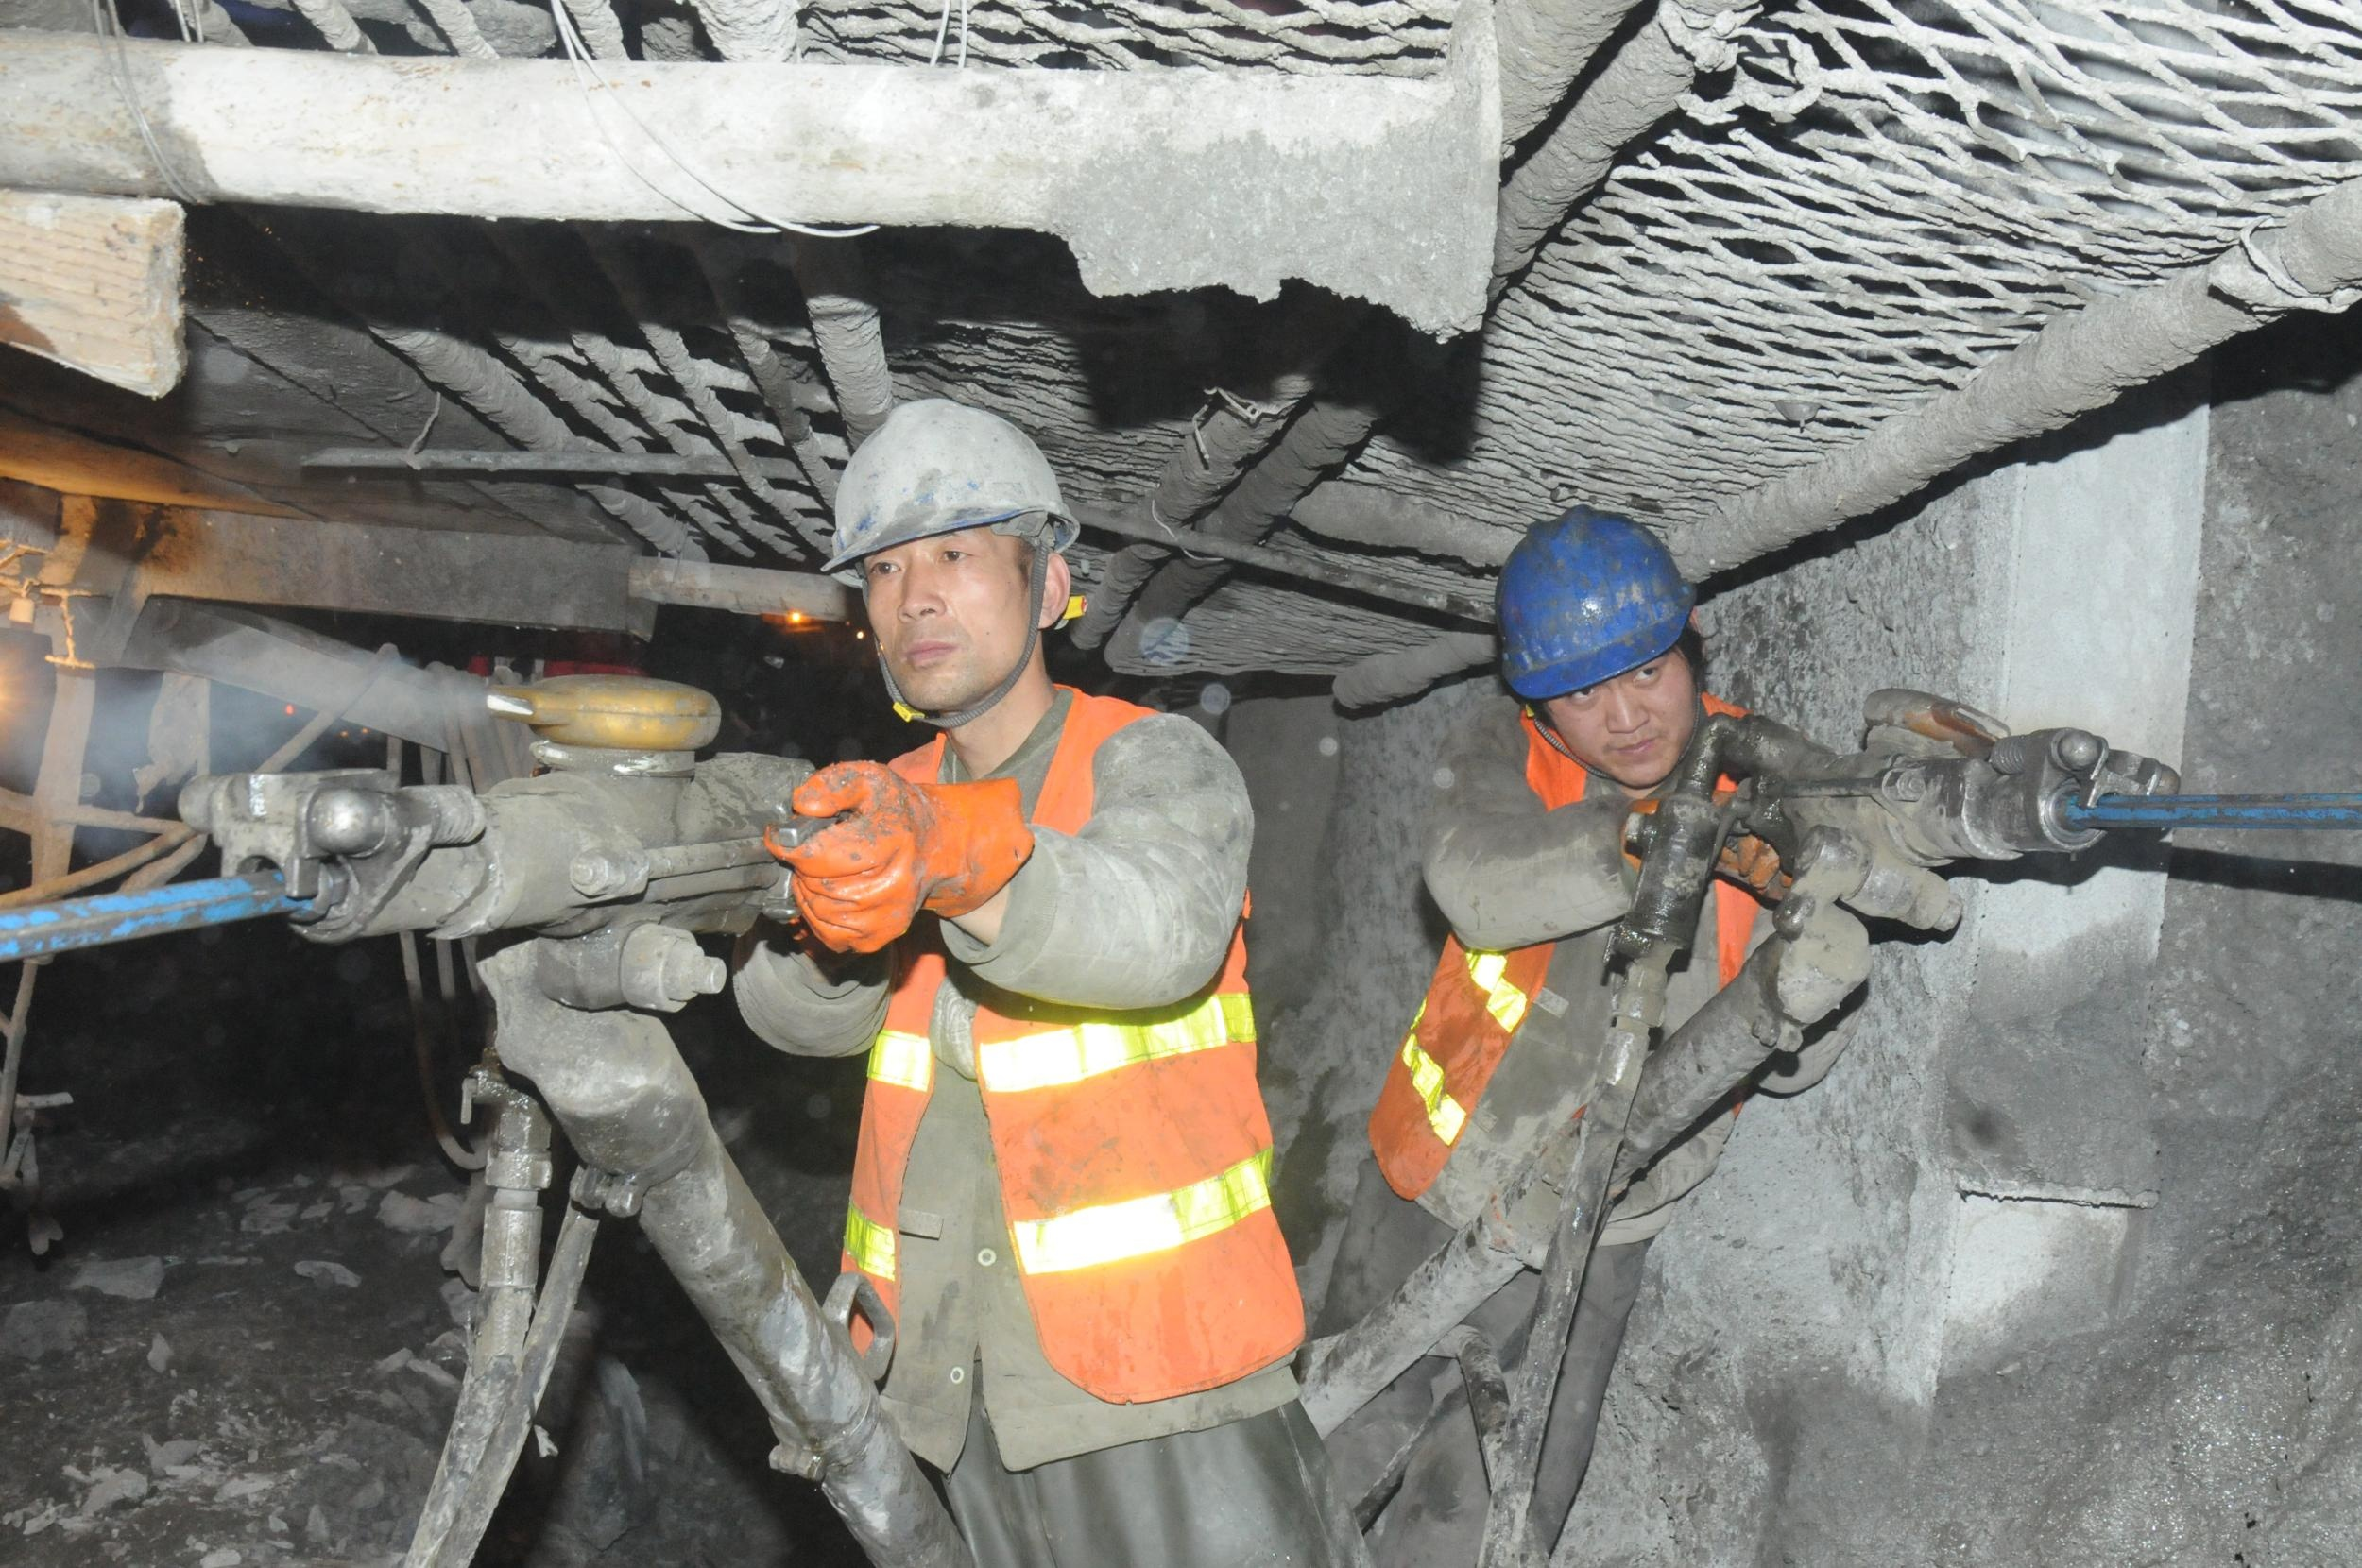blue: (1487, 490, 1711, 803)
white: (828, 390, 1085, 726)
